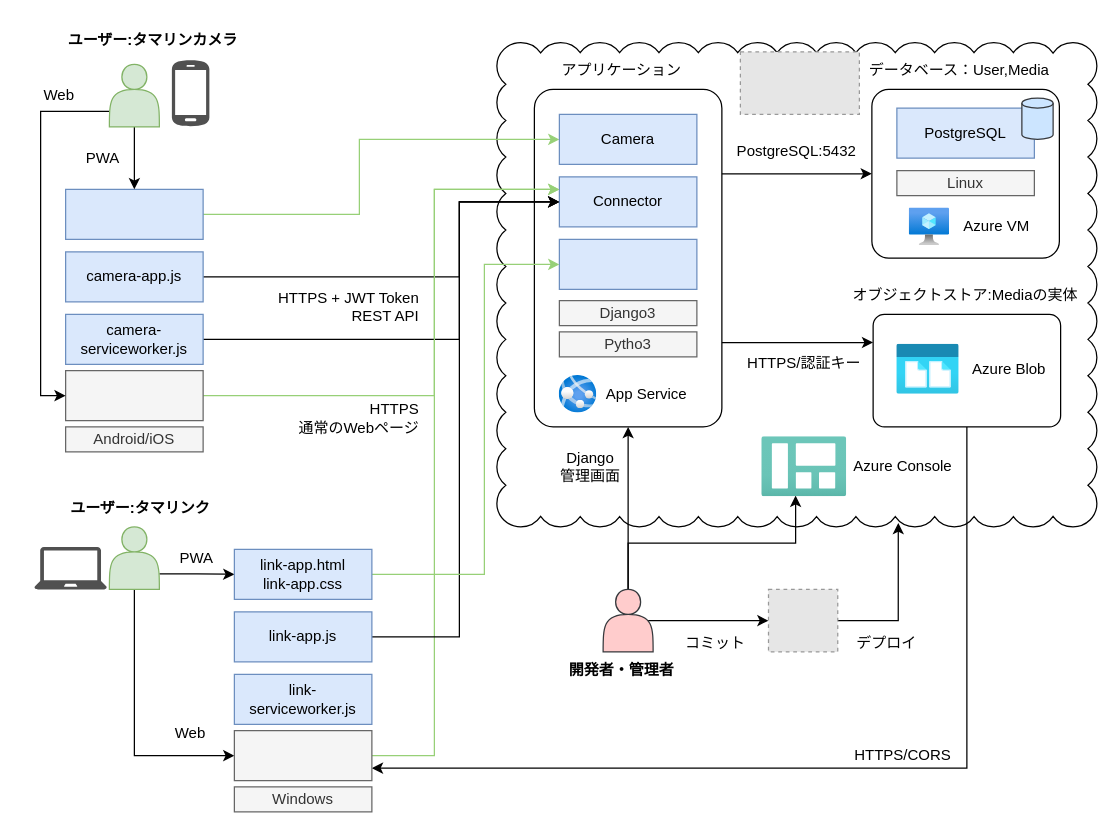
This 1119x834 diagram has some shape labels left out. Grey dashed boxes stand in for pictures. The shapes that lost their labels are listed below. From the top down, each one's centre as x and y in pixels, then its label:
(x=133, y=213): camera-app.html camera-app.css
(x=627, y=263): Link
(x=133, y=395): Browser Chrome / Safari
(x=302, y=755): Browser Edge / Chrome
